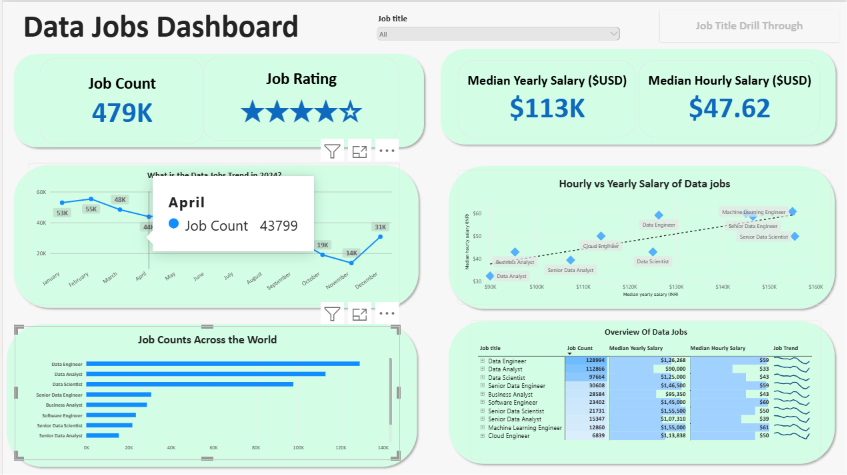

The page's visual inventory and layout, read from the dashboard file:
{"tool":"powerbi","page":{"name":"Data Jobs Dashboard","canvas":[1920,1080],"ordinal":0},"visuals":[{"type":"group","id":"g1","title":"Background","box":[0,98.4,1900,966.4],"z":0},{"type":"shape","box":[16.7,110.5,950,230],"z":0,"group":"g1"},{"type":"textbox","box":[0,0,730,105],"z":1000},{"type":"shape","box":[985,98.4,915,235],"z":1000,"group":"g1"},{"type":"slicer","fields":{"Values":["job_postings_flat.job_title_short"]},"box":[845,25,562.5,80],"z":2000},{"type":"shape","box":[15,362.3,937.5,342.5],"z":2000,"group":"g1"},{"type":"cardVisual","fields":{"Data":["CountNonNull(job_postings_flat.job_title_short)"]},"box":[83.3,126.7,373.3,196.7],"z":3000},{"type":"shape","box":[1005,364.8,895,342.5],"z":3000,"group":"g1"},{"type":"cardVisual","fields":{"Data":["job_postings_flat.Job Rating"]},"box":[455,125,447.5,190],"z":4000},{"type":"shape","box":[0,722.3,950,342.5],"z":4000,"group":"g1"},{"type":"cardVisual","fields":{"Data":["Median(job_postings_flat.salary_year_avg)"]},"box":[1032.5,132.5,405,175],"z":5000},{"type":"shape","box":[1005,717.3,895,342.5],"z":5000,"group":"g1"},{"type":"cardVisual","fields":{"Data":["Median(job_postings_flat.salary_hour_avg)"]},"box":[1445,132.5,412.5,175],"z":6000},{"type":"lineChart","title":"What is the Data Jobs Trend in 2024?","fields":{"Category":["job_postings_flat.job_posted_date.Variation.Date Hierarchy.Month"],"Y":["CountNonNull(job_postings_flat.job_title_short)"]},"box":[60,365,842.5,322.5],"z":7000},{"type":"scatterChart","title":"Hourly vs Yearly Salary of Data jobs","fields":{"Category":["job_postings_flat.job_title_short"],"X":["Median(job_postings_flat.salary_year_avg)"],"Y":["Median(job_postings_flat.salary_hour_avg)"]},"box":[1032.5,382.5,847.5,305],"z":8000},{"type":"barChart","title":"Job Counts Across the World","fields":{"Category":["job_postings_flat.job_title_short"],"Y":["CountNonNull(job_postings_flat.job_title_short)"]},"box":[27.5,735,875,305],"z":9000},{"type":"pivotTable","title":"Overview Of Data Jobs","fields":{"Rows":["job_postings_flat.job_title_short","job_postings_flat.job_posted_date.Variation.Date Hierarchy.Quarter"],"Values":["CountNonNull(job_postings_flat.job_title_short)","Median(job_postings_flat.salary_year_avg)","Median(job_postings_flat.salary_hour_avg)","SparklineData(CountNonNull(job_postings_flat.job_title_short)_[job_postings_flat.job_posted_date.Variation.Date Hierarch"]},"box":[1062.5,722.5,795,317.5],"z":10000},{"type":"actionButton","box":[1492.5,17.5,407.5,72.5],"z":11000}]}

Visuals, with their boxes in screenshot pixels (x1, y1, x2, y2), scaled from the page's 1920x1080 canvas onto the 847x475 screenshot:
"Background" group: (0,43,838,468)
shape: (7,49,426,150)
textbox: (0,0,322,46)
shape: (435,43,838,147)
slicer - job_postings_flat.job_title_short: (373,11,621,46)
shape: (7,159,420,310)
cardVisual - CountNonNull(job_postings_flat.job_title_short): (37,56,201,142)
shape: (443,160,838,311)
cardVisual - job_postings_flat.Job Rating: (201,55,398,139)
shape: (0,318,419,468)
cardVisual - Median(job_postings_flat.salary_year_avg): (455,58,634,135)
shape: (443,315,838,466)
cardVisual - Median(job_postings_flat.salary_hour_avg): (637,58,819,135)
"What is the Data Jobs Trend in 2024?" lineChart: (26,161,398,302)
"Hourly vs Yearly Salary of Data jobs" scatterChart: (455,168,829,302)
"Job Counts Across the World" barChart: (12,323,398,457)
"Overview Of Data Jobs" pivotTable: (469,318,819,457)
actionButton: (658,8,838,40)
